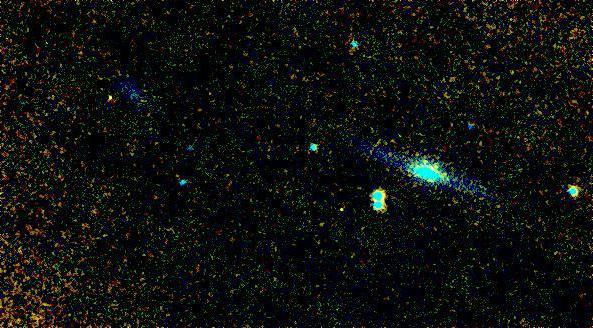star: (91, 82, 121, 112)
